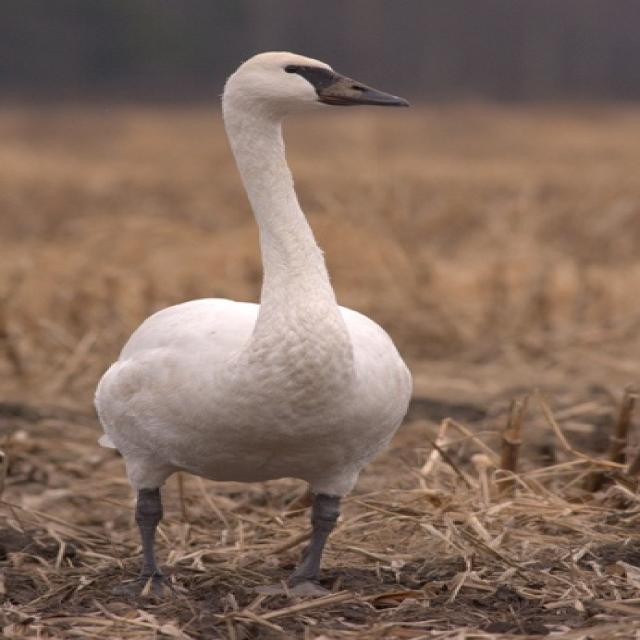bird: (92, 34, 439, 596)
